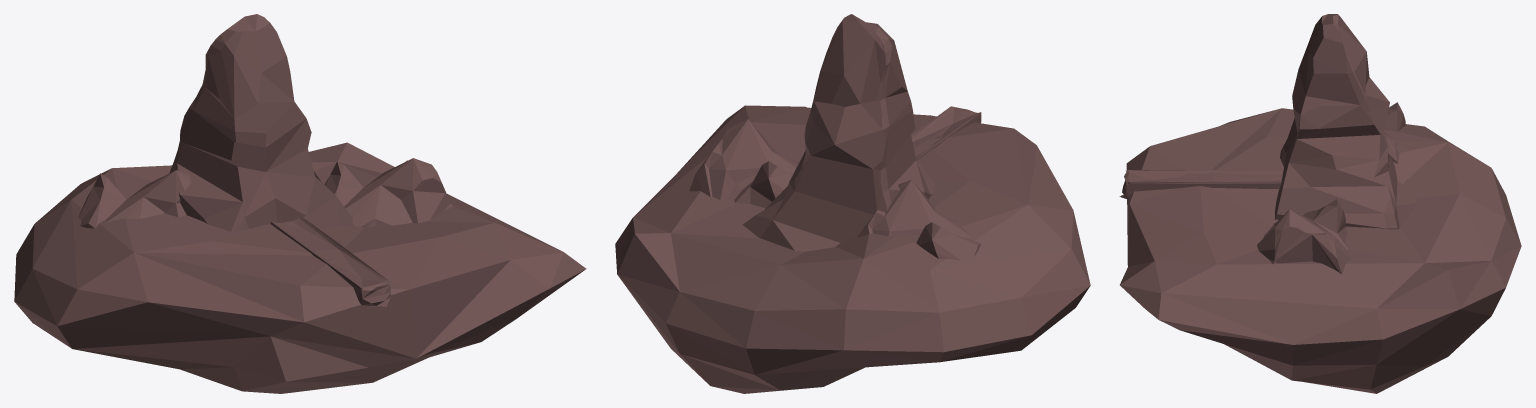
The model's file is FloatingRock_01.fbx.
3 views of the same model, side by side, from view 1: azimuth 30°, elevation 25°; view 2: azimuth 150°, elevation 25°; view 3: azimuth 270°, elevation 25° (orthographic). The views are drawn at different scales.
Parts seen in each view (by area): view 1: Land_01; view 2: Land_01; view 3: Land_01.
Boxes of the visible parts, box(x1,y1,x2,y2) form: Land_01: box(14, 14, 586, 393); Land_01: box(615, 14, 1090, 393); Land_01: box(1119, 14, 1521, 393).
Size of the model in its own units: 3635 by 3016 by 3220.
